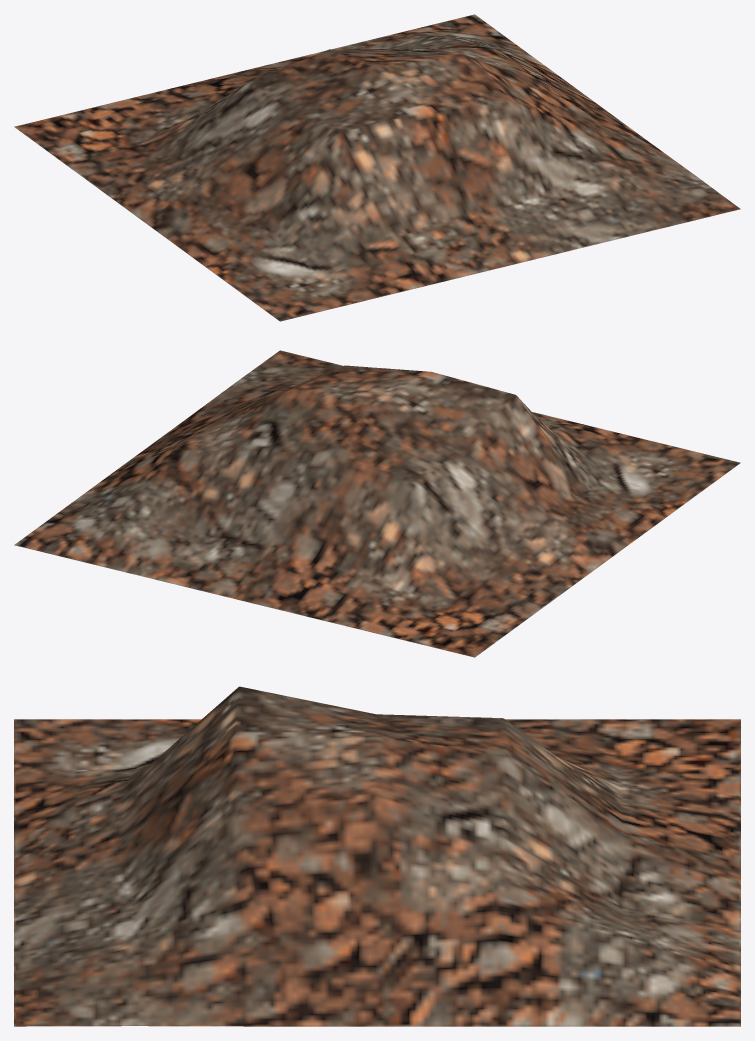
File: rubble2.fbx
3 views of the same model, one above another, from view 1: azimuth 30°, elevation 25°; view 2: azimuth 150°, elevation 25°; view 3: azimuth 270°, elevation 25° (orthographic). The views are drawn at different scales.
Visible parts, largest first — view 1: rubble2; view 2: rubble2; view 3: rubble2.
Part boxes in pixels (x1,y1,x2,y2): rubble2: [14, 14, 740, 321]; rubble2: [14, 350, 740, 657]; rubble2: [14, 686, 740, 1026].
Bounding box in the file's own units: 1000 × 1000 × 207.
1 material, 1 textured.
